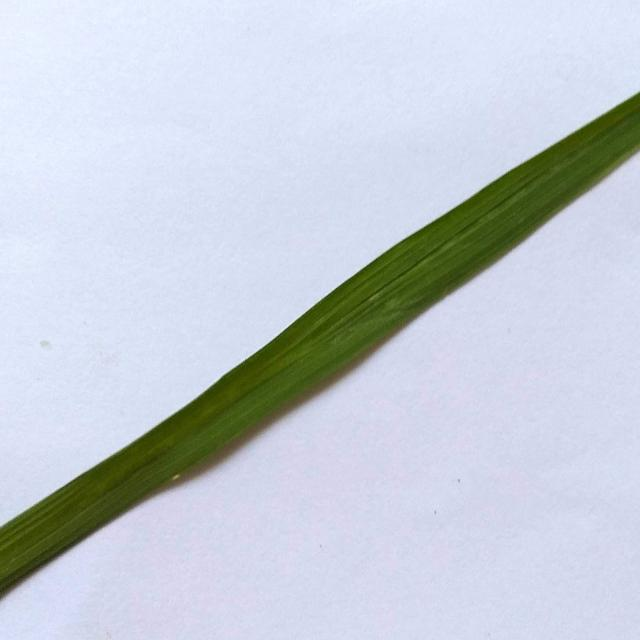Rice_Healthy: (0, 93, 640, 594)
